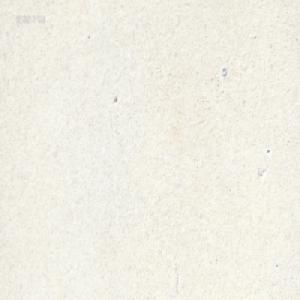Washer: (221, 66, 227, 77)
